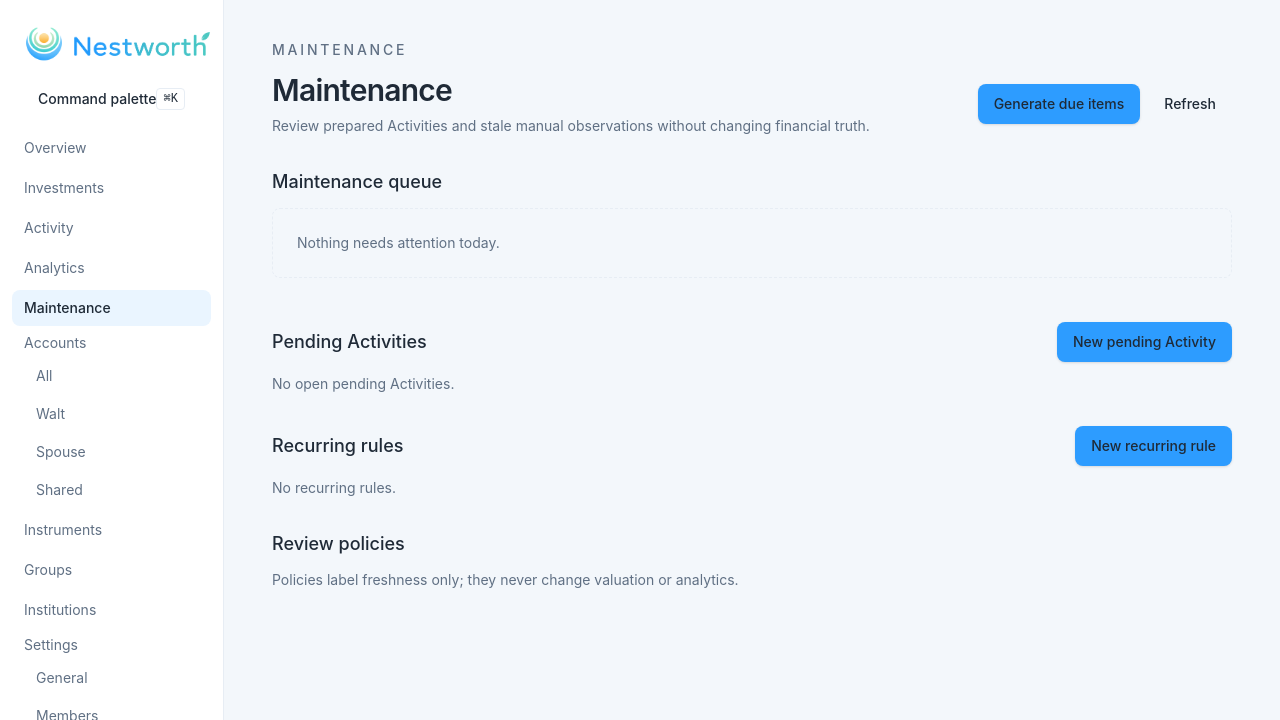
it: maintenance page › generates due items only after an explicit action
The image size is (1280, 720).
Check: the navigation bar named "Household" is shown, box [0,0,224,719]
Click the button "Generate due items" at (1059, 104), box [978,84,1140,124]
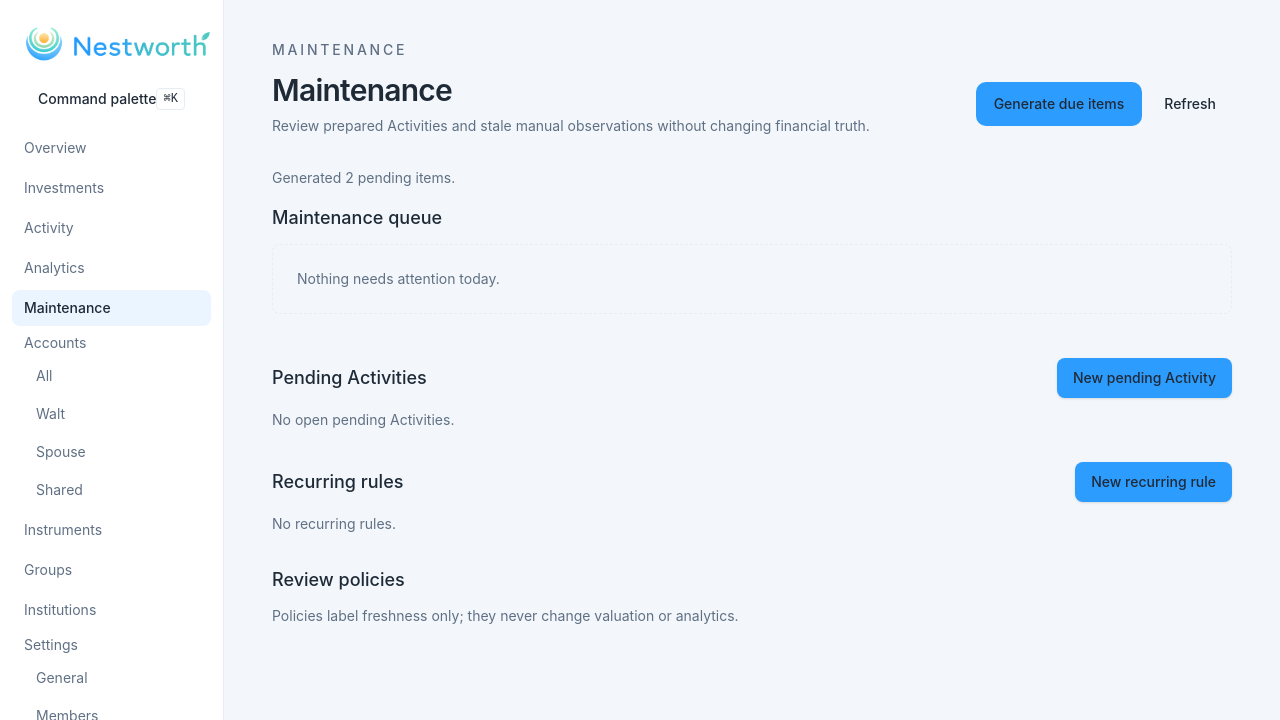
Check: the text "Generated 2 pending items." is shown, box [272,169,455,186]
